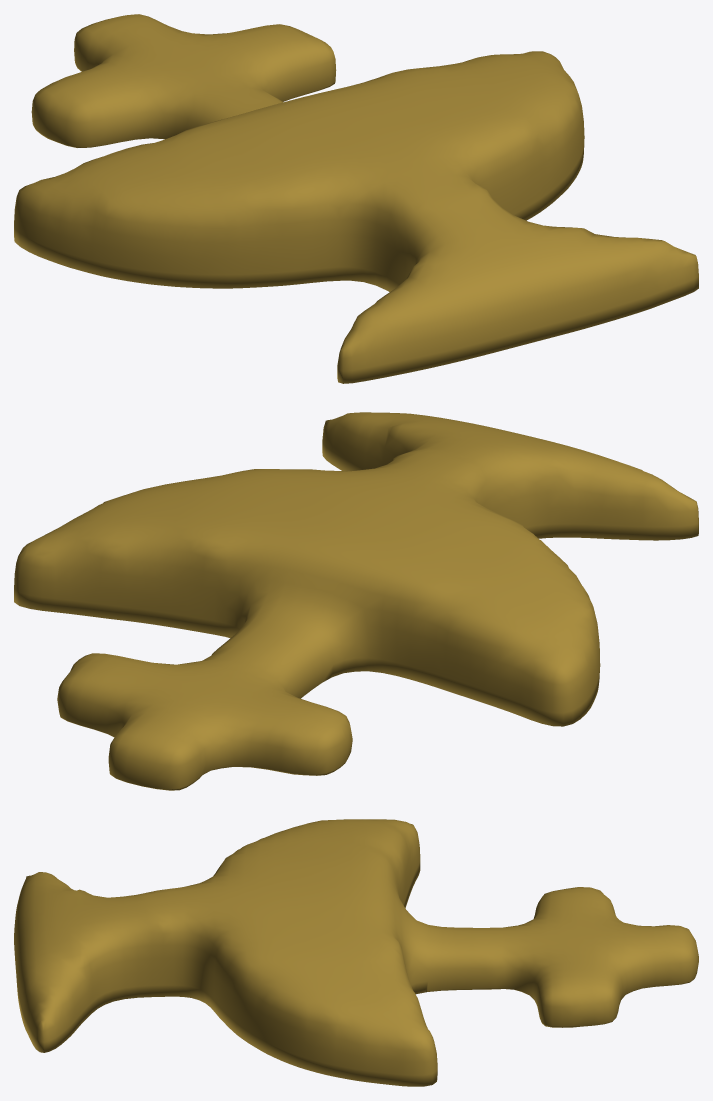
Rendered from decoration-cleric-draco.glb.
3 renders of one model, top to bottom at view 1: azimuth 30°, elevation 25°; view 2: azimuth 150°, elevation 25°; view 3: azimuth 270°, elevation 25°, orthographic. The views are drawn at different scales.
Visible parts, largest first — view 1: decoration_cleric; view 2: decoration_cleric; view 3: decoration_cleric.
Part boxes in pixels (x1=…): decoration_cleric: x1=14, y1=14, x2=698, y2=383; decoration_cleric: x1=14, y1=412, x2=698, y2=790; decoration_cleric: x1=14, y1=819, x2=698, y2=1086.
Bounding box in the file's own units: 0.1233 × 0.021 × 0.158.
